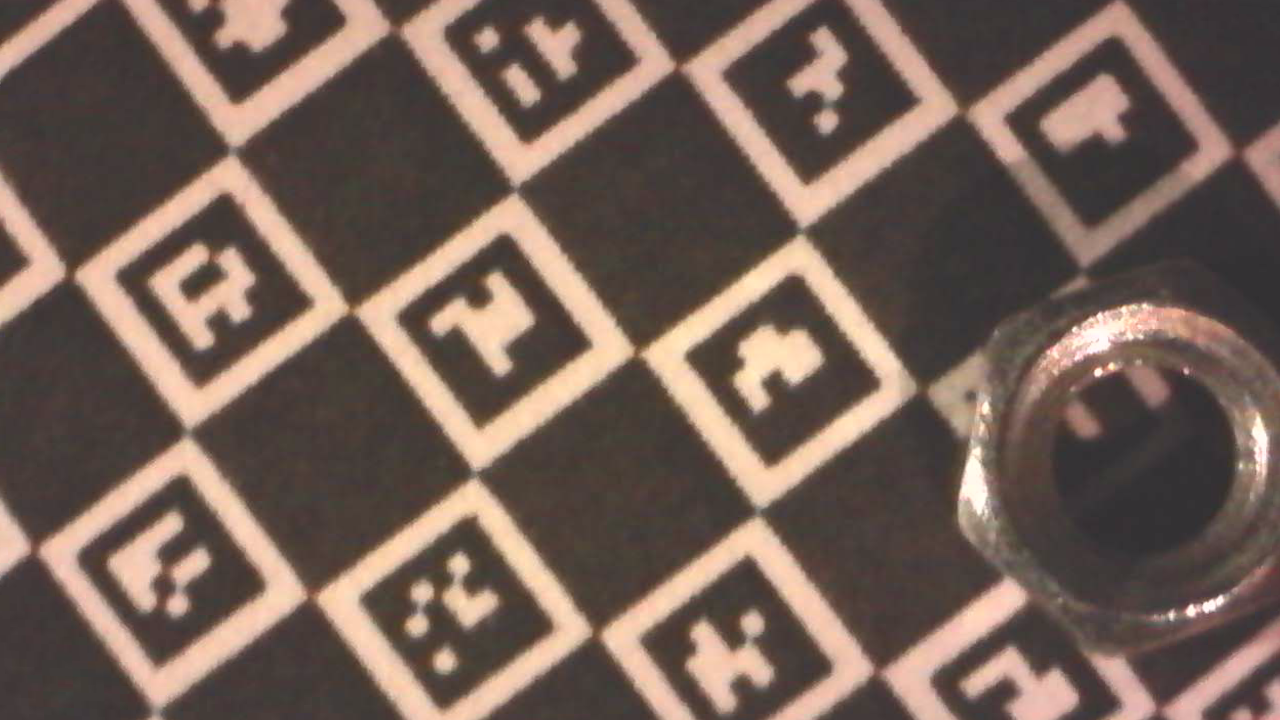Bolt: (957, 250, 1279, 665)
